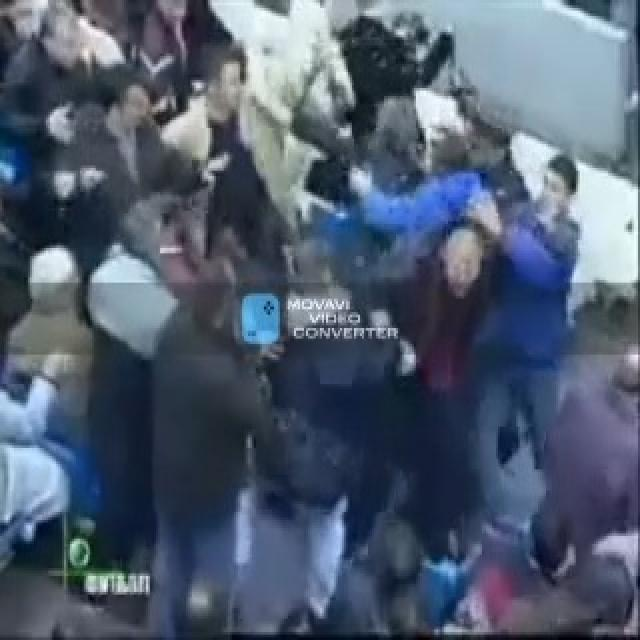non-voilence: (0, 0, 636, 637), (238, 288, 282, 347)
